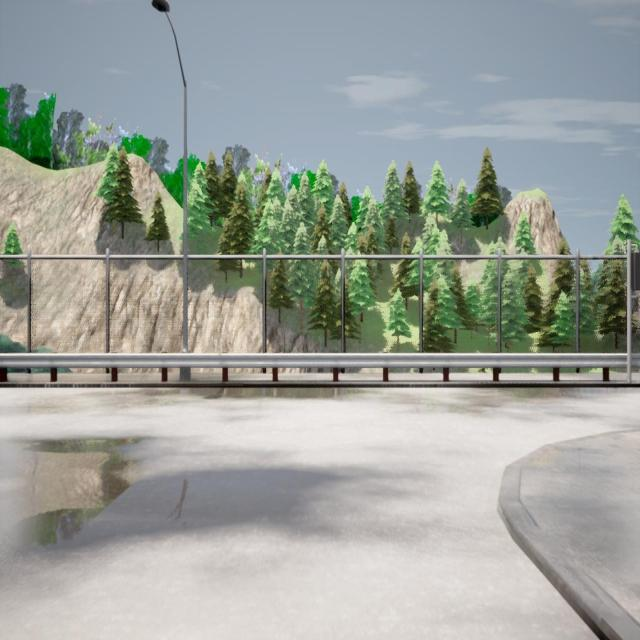traffic_light: (630, 252, 640, 291)
